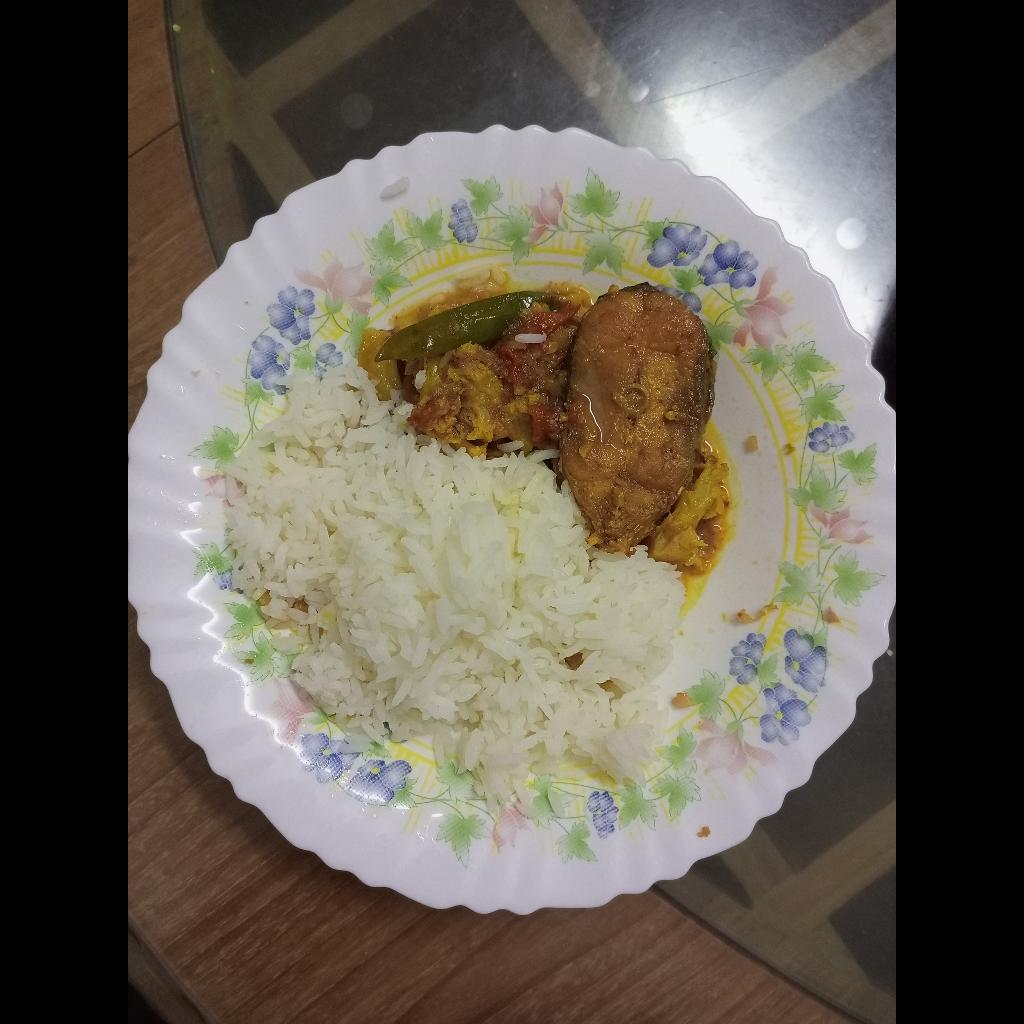fish: (398, 279, 717, 564)
potol: (377, 285, 568, 364)
rice: (215, 364, 684, 810)
